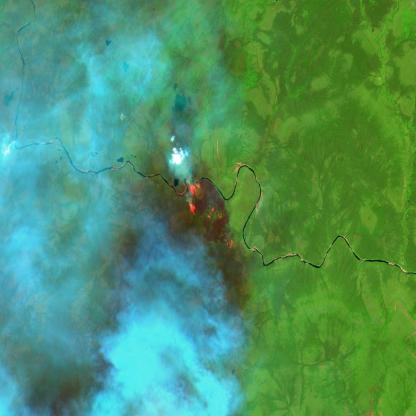fire: (186, 178, 234, 250)
